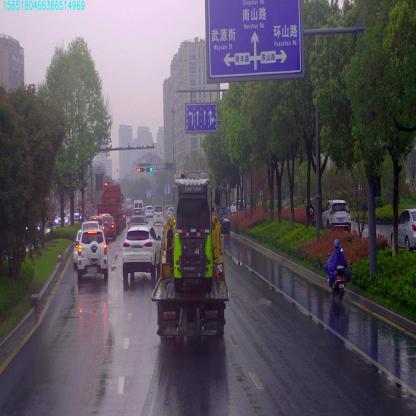traffic-light: (145, 166, 153, 172), (137, 166, 144, 172)
